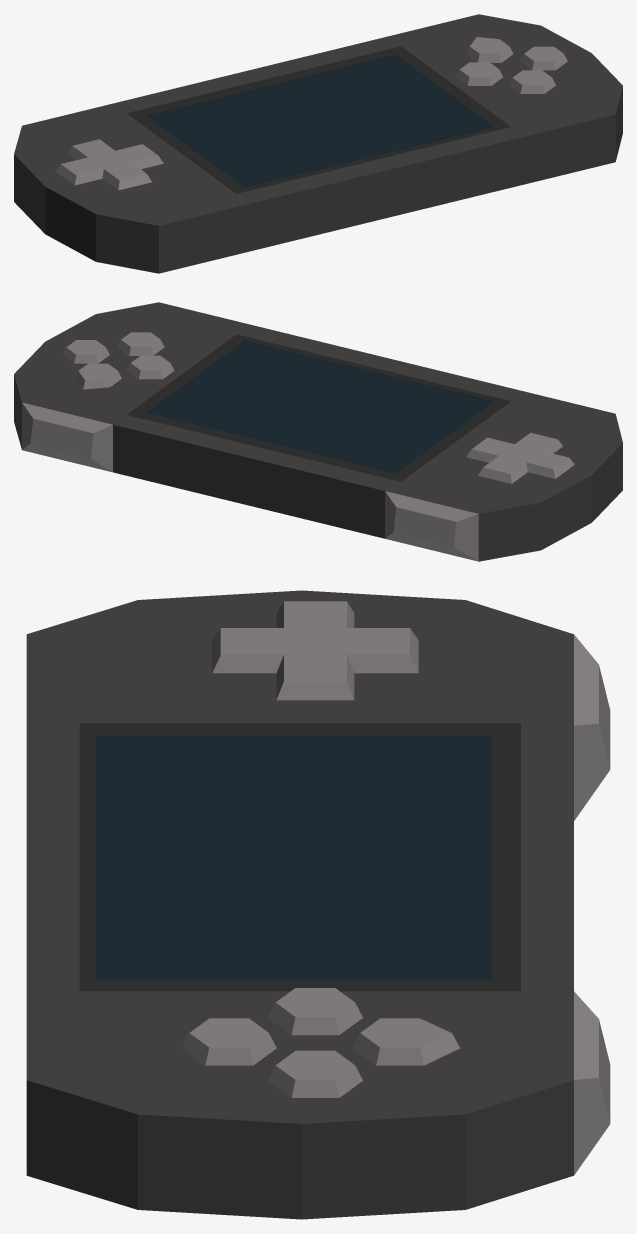
Rendered from console-handheld.glb.
The picture shows the model from 3 angles, top to bottom: view 1: azimuth 30°, elevation 25°; view 2: azimuth 150°, elevation 25°; view 3: azimuth 270°, elevation 25°; orthographic projection. The views are drawn at different scales.
Visible parts, largest first — view 1: console-handheld; view 2: console-handheld; view 3: console-handheld.
Boxes of the visible parts, left/top/right/bottom form: console-handheld: left=14, top=14, right=622, bottom=273; console-handheld: left=14, top=302, right=622, bottom=561; console-handheld: left=26, top=590, right=610, bottom=1219.
Size of the model in its own units: 0.225 by 0.0218 by 0.1041.
Materials: 1 (1 with a texture image).
